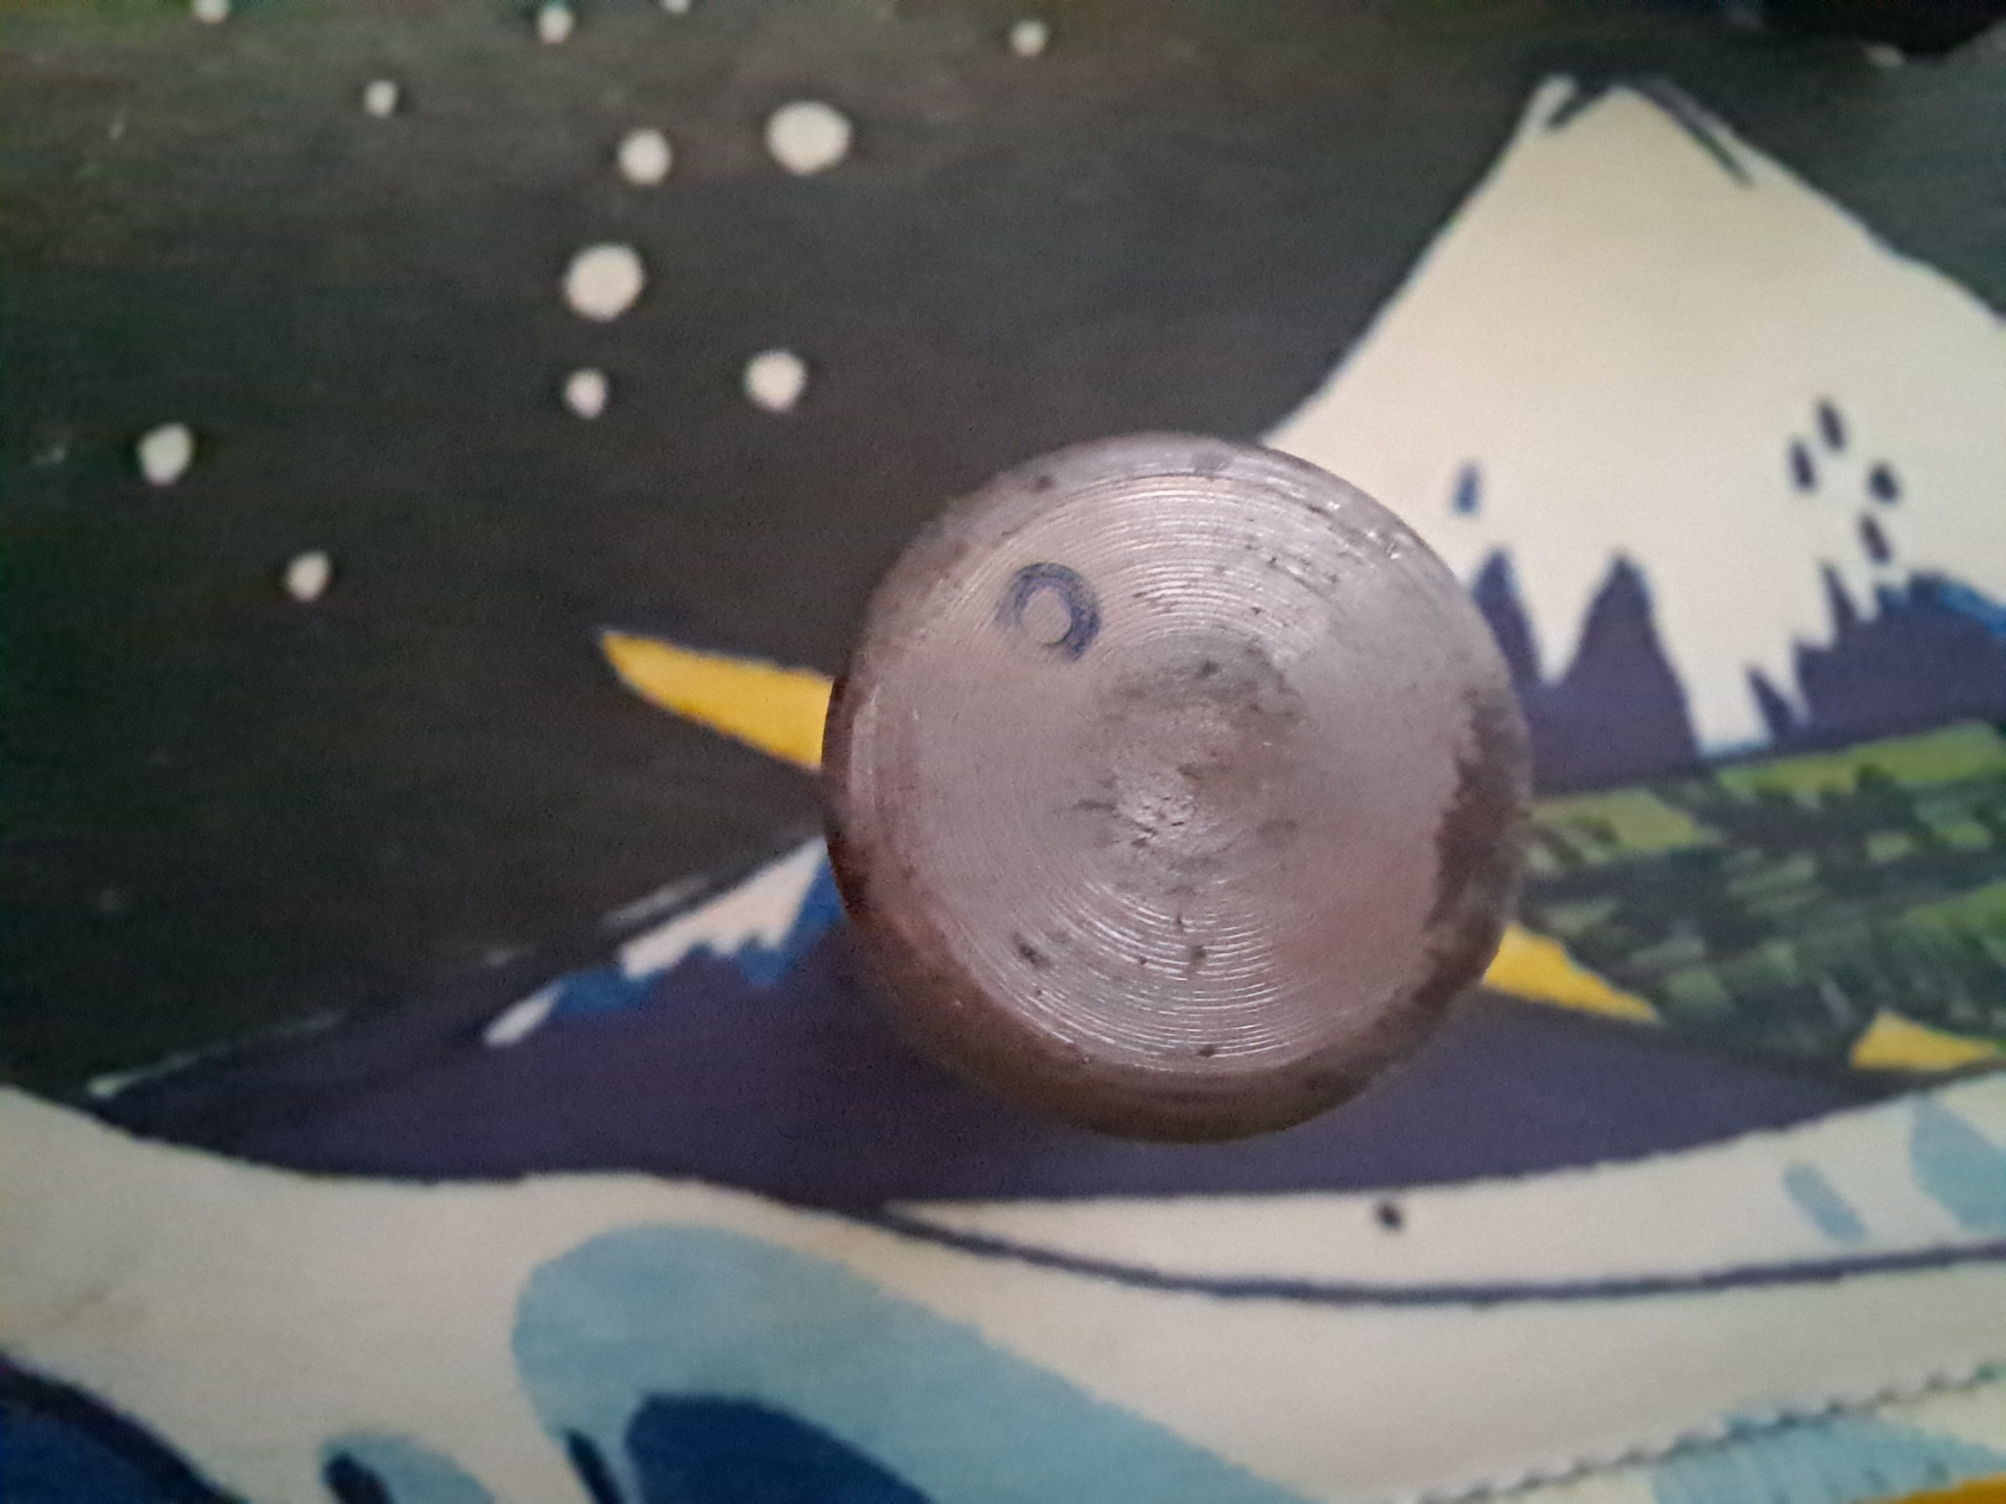плансон: (825, 428, 1534, 1149)
повреждение: (994, 561, 1098, 667)
